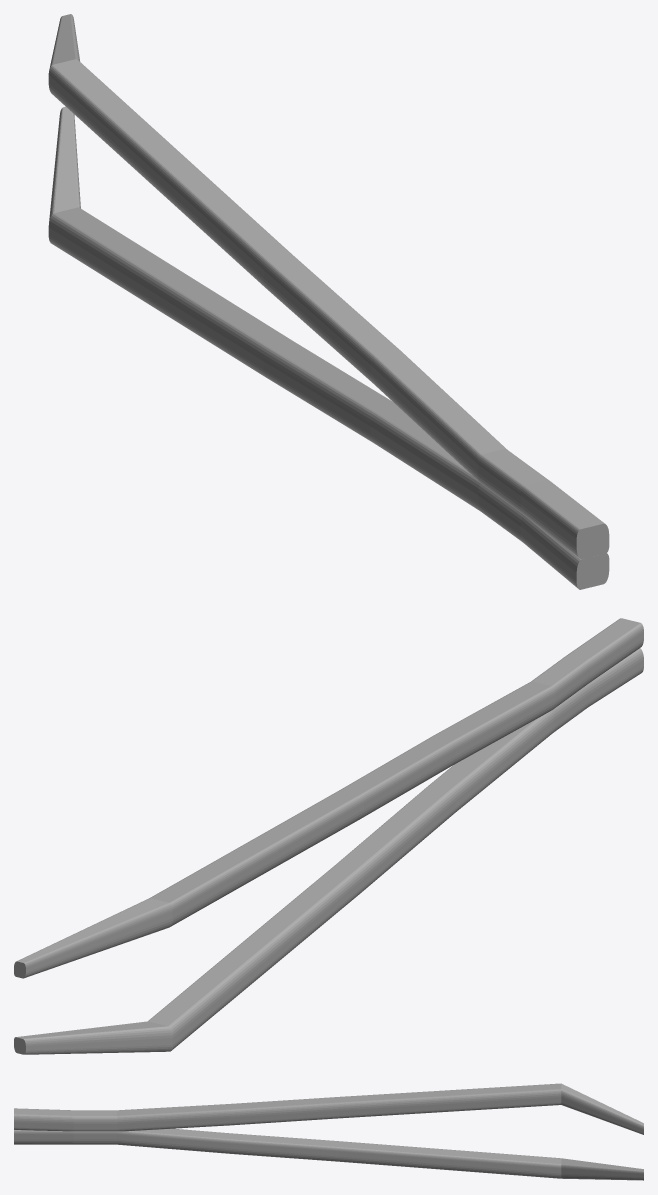
File: Foreceps.fbx
3 views of the same model, one above another, from view 1: azimuth 30°, elevation 25°; view 2: azimuth 150°, elevation 25°; view 3: azimuth 270°, elevation 25° (orthographic). The views are drawn at different scales.
Visible parts, largest first — view 1: Plane; view 2: Plane; view 3: Plane.
Part boxes in pixels (left/top/right/bottom): Plane: left=48, top=14, right=609, bottom=589; Plane: left=14, top=618, right=643, bottom=1054; Plane: left=14, top=1083, right=643, bottom=1180.
Bounding box in the file's own units: 101 × 136 × 867.
